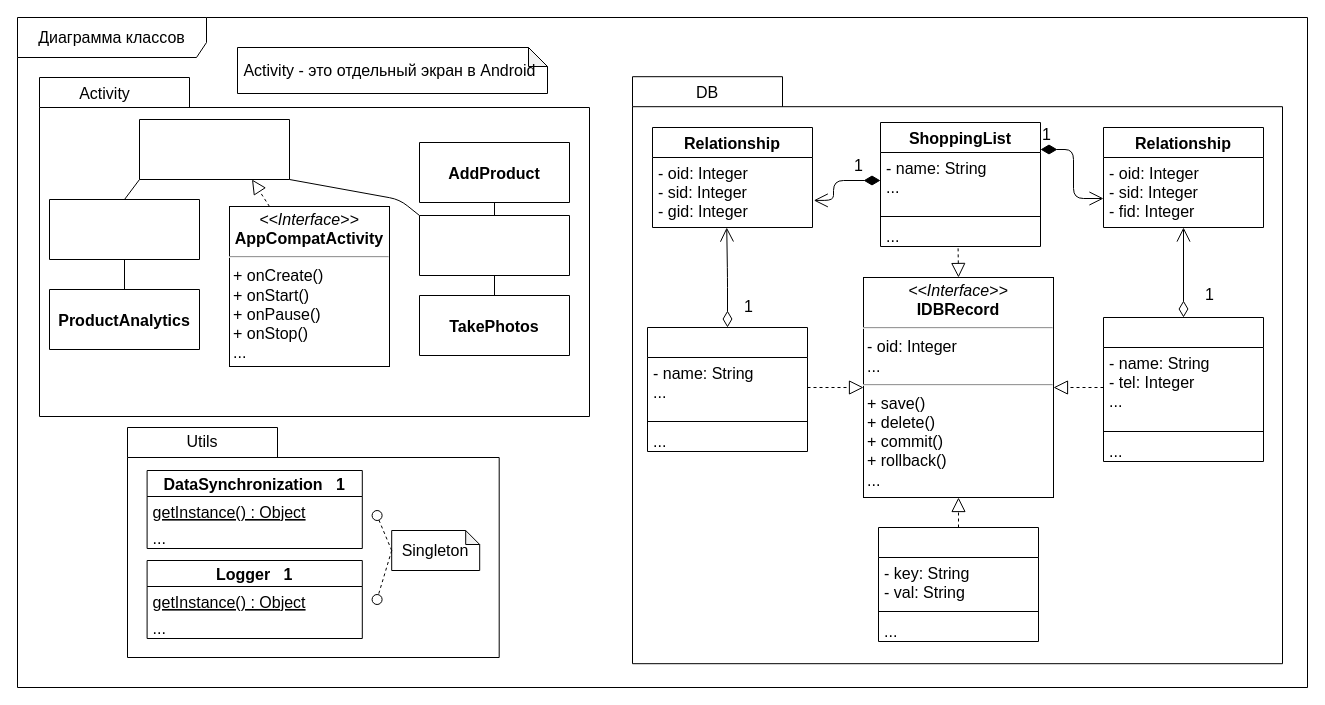
Image size: 1325x705. Some labels were removed from this diagram. Here are the shapes that lost their labels. From the top down, the box of each, then its label:
(138, 118, 290, 180): Main
(48, 198, 200, 260): ListCashVoucher
(418, 214, 570, 276): AddCashVoucher
(646, 326, 808, 452): Goods
(1102, 316, 1264, 462): Friends
(878, 526, 1038, 642): Settings
